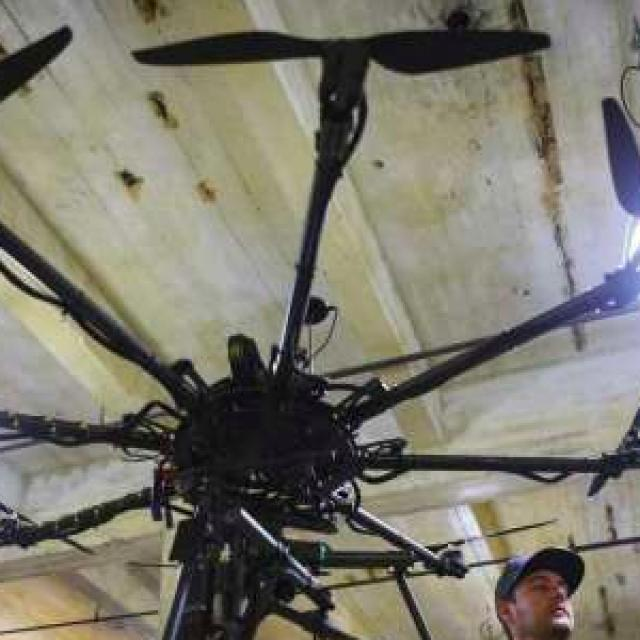drone: (0, 25, 640, 581)
